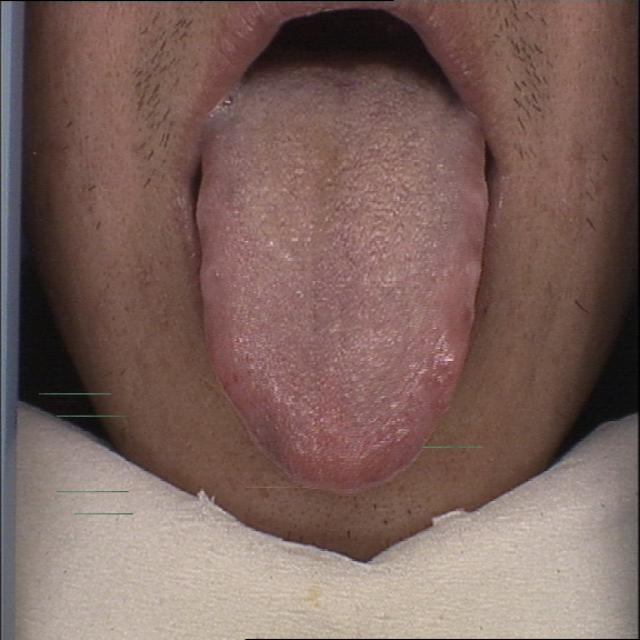tongue: (186, 45, 499, 499)
